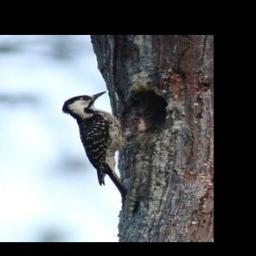Woodpecker: (60, 89, 154, 197)
